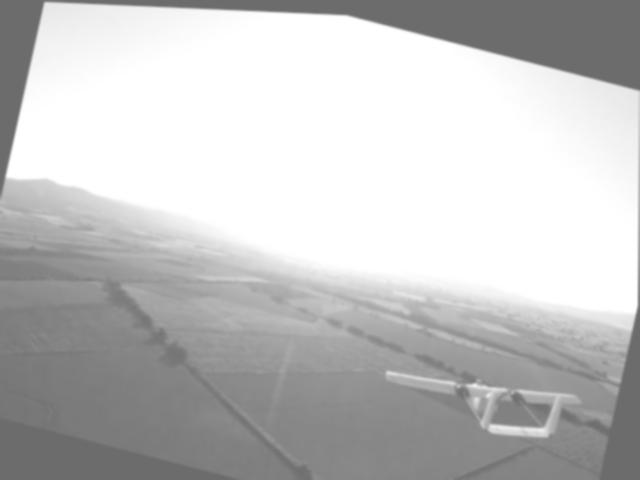hedef: (374, 332, 593, 461)
